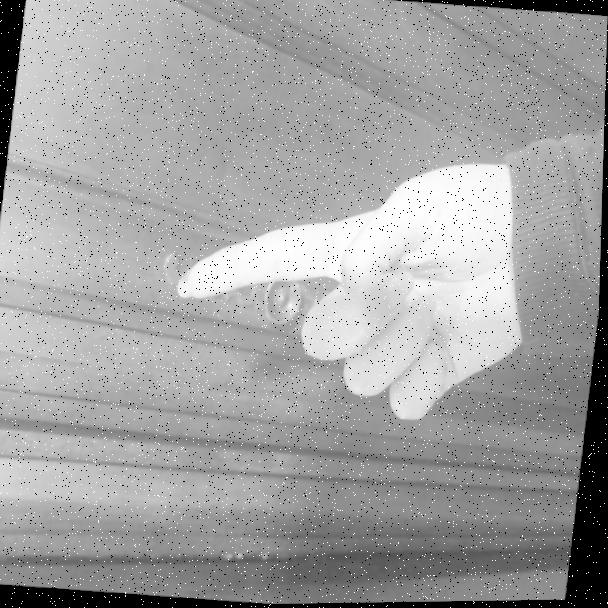one: (152, 145, 552, 446)
